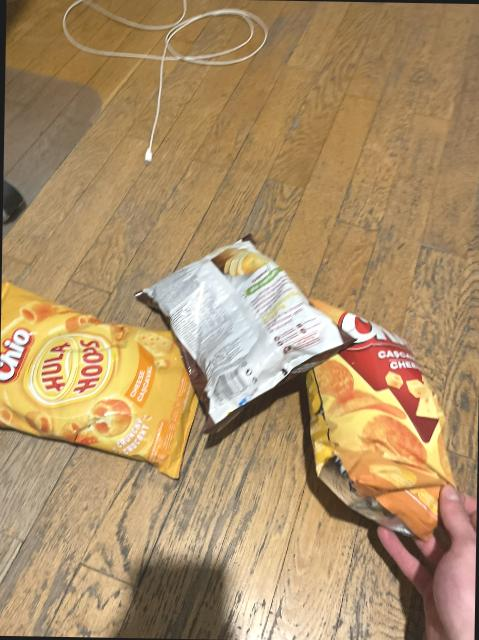Chio Cascaval 125g: (302, 294, 462, 542)
Chio Hula Hoops Cheese 70g: (0, 277, 204, 480)
Lays Beef Grilled Ribs 125g: (136, 238, 346, 431)
